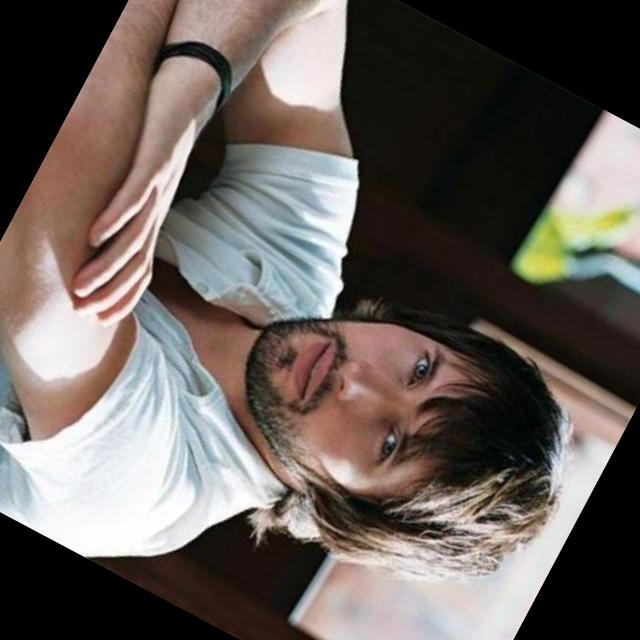bareface: (208, 232, 566, 584)
